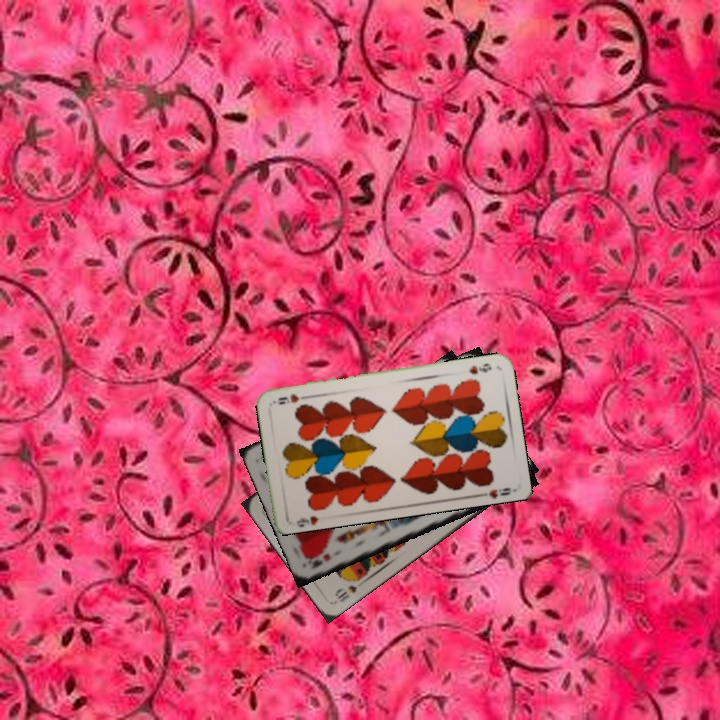H9: (465, 359, 494, 377), (292, 512, 321, 528)
HK: (306, 549, 333, 572)
S10: (331, 581, 360, 605)
